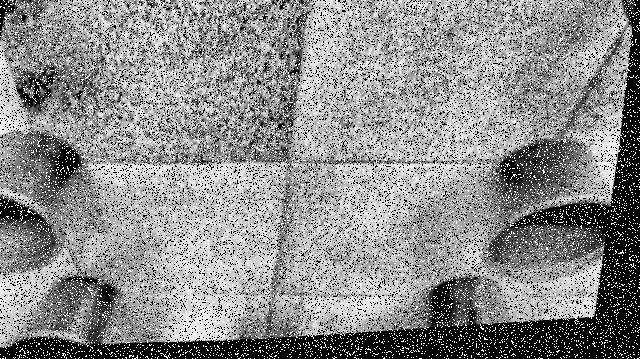pot: (477, 137, 613, 282), (0, 128, 86, 271)
